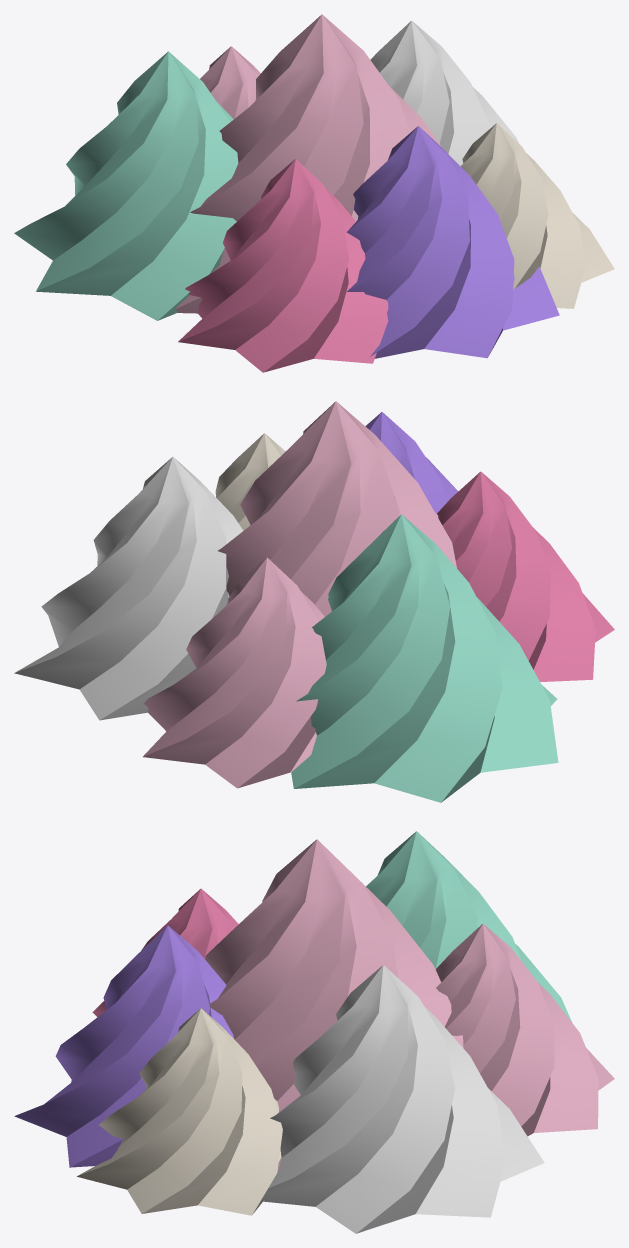
The model's file is candy_bush_a.glb.
The picture shows the model from 3 angles, top to bottom: view 1: azimuth 30°, elevation 25°; view 2: azimuth 150°, elevation 25°; view 3: azimuth 270°, elevation 25°; orthographic projection. The views are drawn at different scales.
Visible parts, largest first — view 1: candy_bush_a; view 2: candy_bush_a; view 3: candy_bush_a.
Part boxes in pixels (x1,y1,x2,y2): candy_bush_a: (14, 14, 614, 372); candy_bush_a: (14, 401, 614, 802); candy_bush_a: (14, 831, 614, 1233).
Size of the model in its own units: 1.85 by 0.88 by 1.81.
